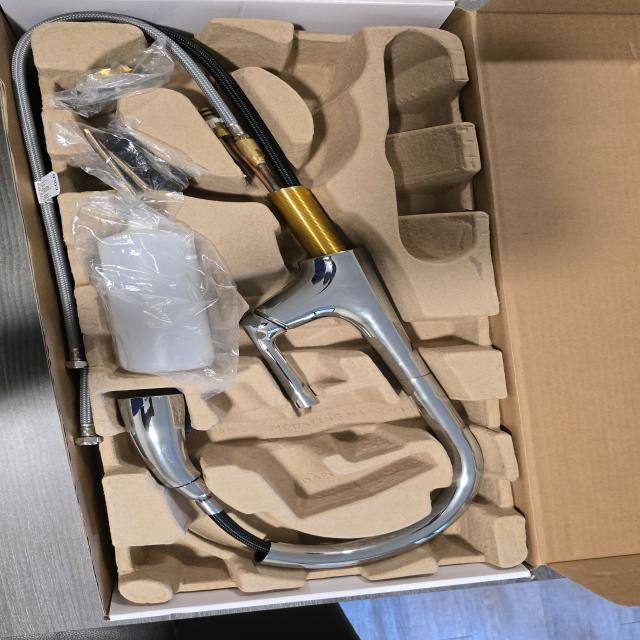1: (117, 19, 484, 570)
2m: (204, 384, 433, 516)
3: (93, 204, 211, 373)
4m: (383, 32, 474, 263)
5m: (288, 46, 357, 102)
6: (51, 40, 174, 118)
7: (58, 116, 204, 199)
